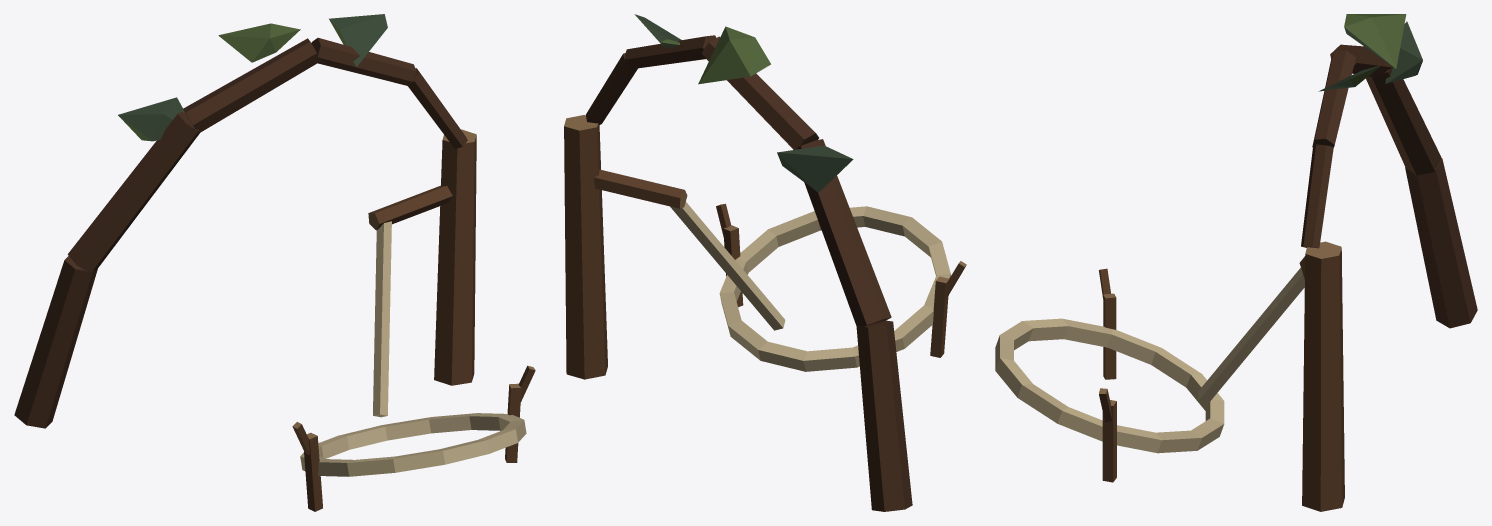
File: trap.glb
3 renders of one model, left to right at view 1: azimuth 30°, elevation 25°; view 2: azimuth 150°, elevation 25°; view 3: azimuth 270°, elevation 25°, orthographic. The views are drawn at different scales.
Visible parts, largest first — view 1: trap; view 2: trap; view 3: trap.
Boxes of the visible parts, x1,y1,x2,y2 form: trap: (14,14,535,511); trap: (564,14,966,511); trap: (995,14,1477,511).
Bounding box in the file's own units: 0.7286 × 0.6703 × 0.7226.
